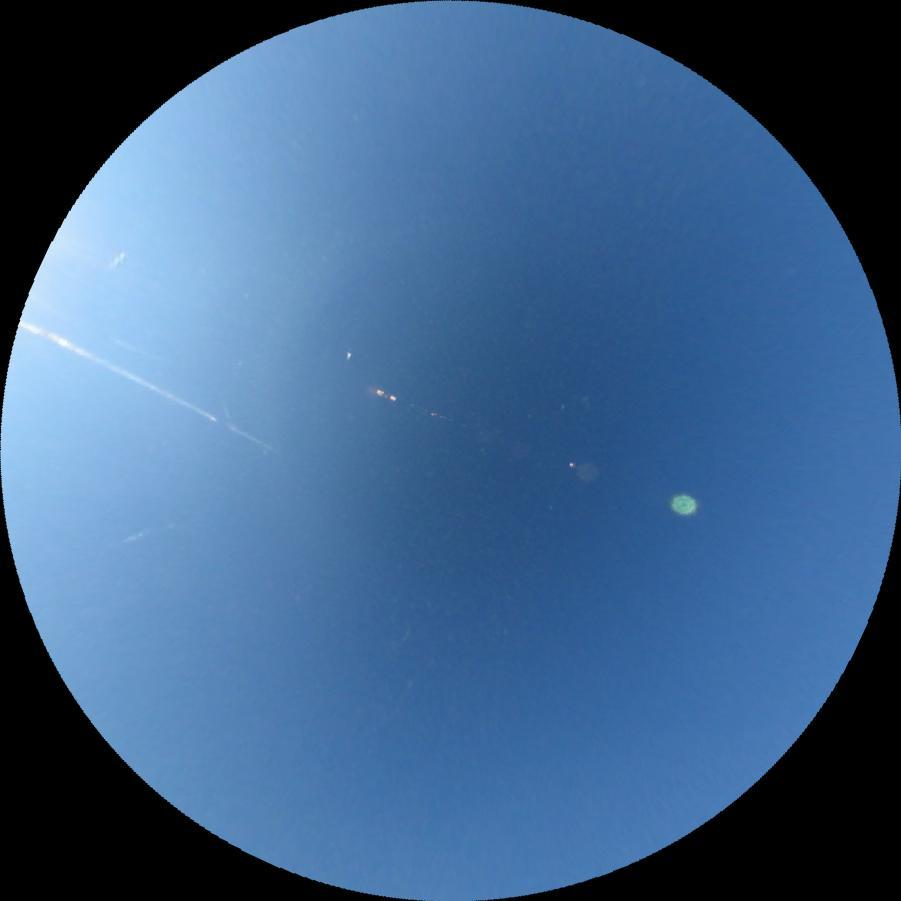contrail young: (101, 249, 131, 277), (218, 395, 232, 419)
parasite: (16, 315, 219, 421), (114, 517, 174, 547), (222, 420, 275, 451)
unknow: (111, 337, 167, 365)
